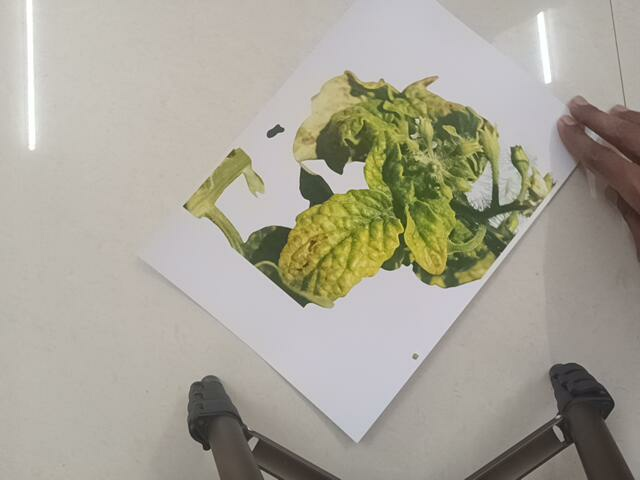Tomamto_Leaf_curl_virus: (183, 89, 525, 289)
